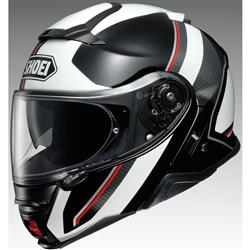with_helmet: (9, 1, 239, 247)
